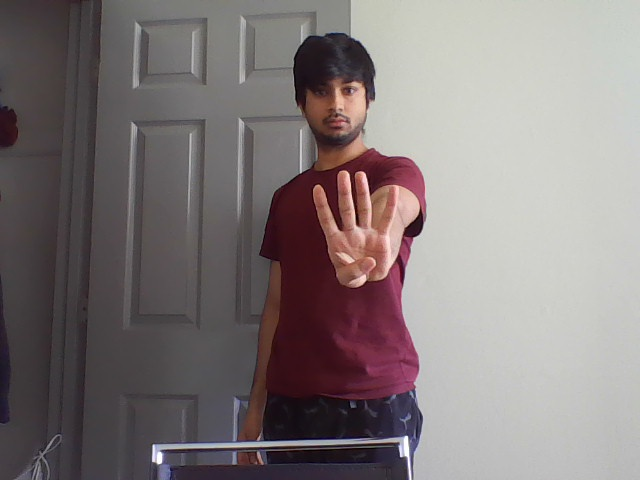four: (308, 165, 403, 244)
